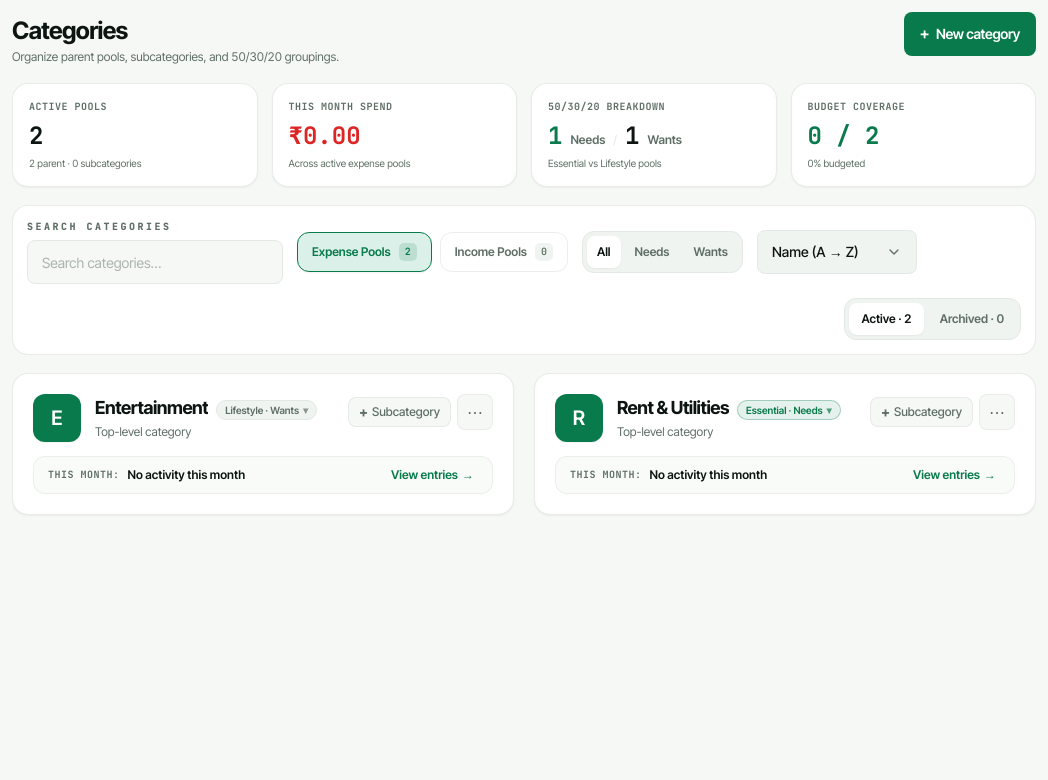
Test: CategoryManager › filters categories by 50/30/20 group
The width and height of the screenshot is (1048, 780).
Expected: the heading "Rent & Utilities" is shown, [617, 394, 729, 422]
Expected: the heading "Entertainment" is shown, [95, 394, 208, 422]
Click the button "Needs" at coordinates (652, 252), box [624, 236, 679, 268]
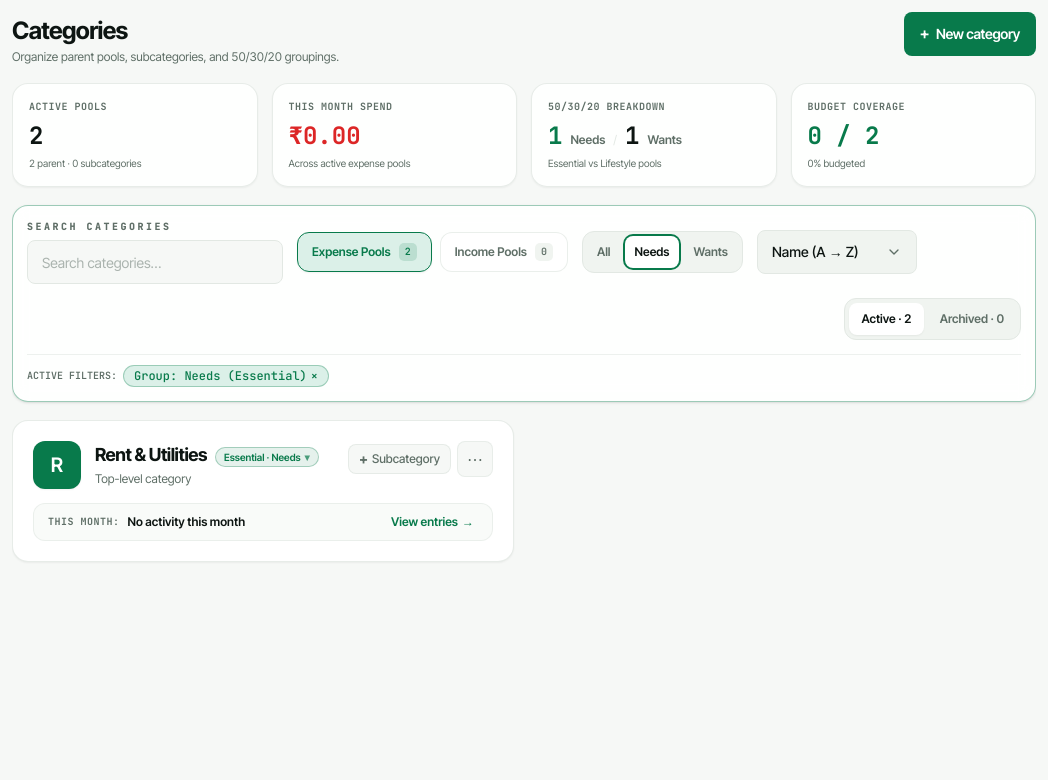
Expected: the heading "Rent & Utilities" is shown, [95, 441, 207, 469]
Expected: the heading "Entertainment" is gone
Click the button "Wants" at coordinates (711, 252), box [684, 236, 738, 268]
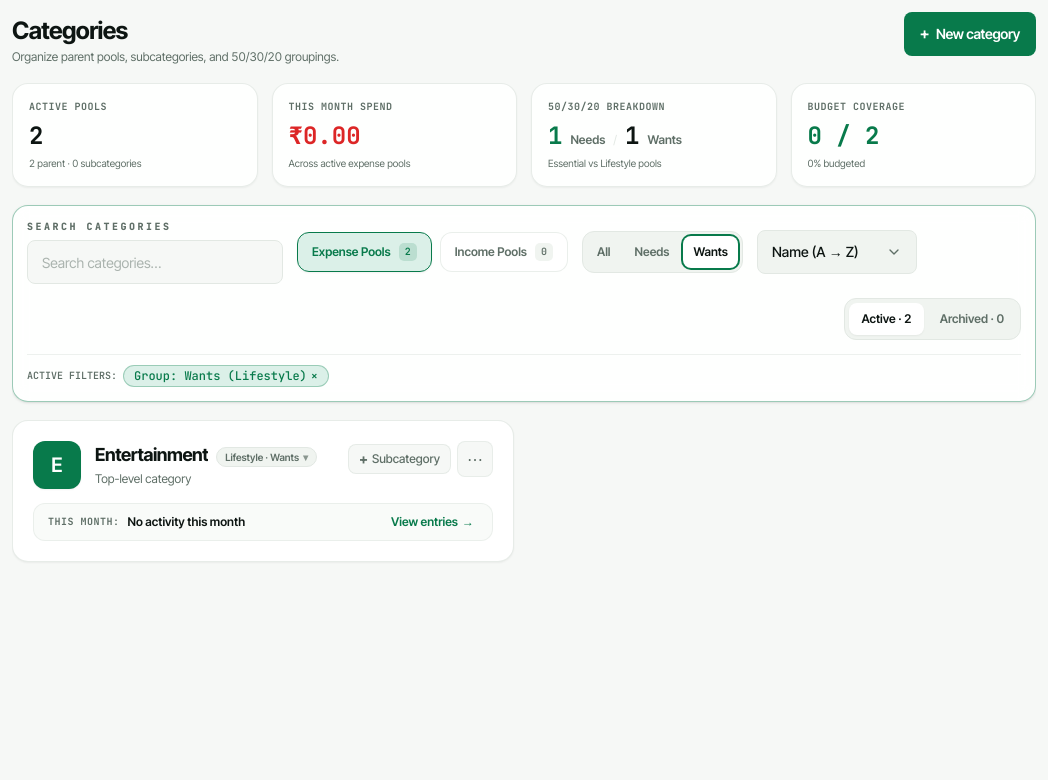
Expected: the heading "Entertainment" is shown, [95, 441, 208, 469]
Expected: the heading "Rent & Utilities" is gone
